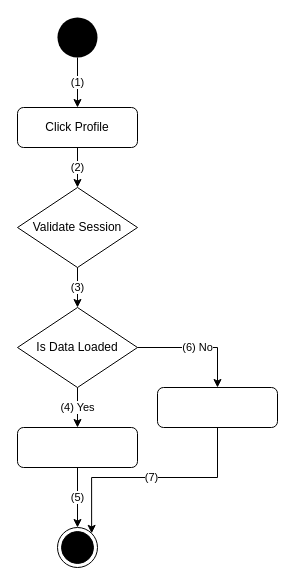
The diagram is 295 pixels wide and 585 high, and some of its shapes have lost their labels. Each missing label, with the centre of its shape:
"Display Profile" belongs at (77,447).
"Show Error" belongs at (217,407).
